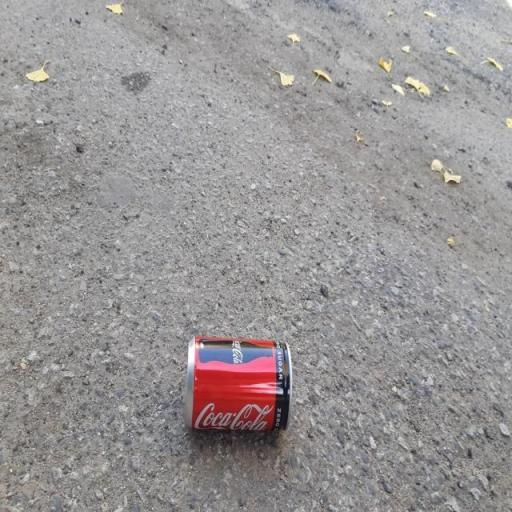metal: (150, 316, 315, 470)
